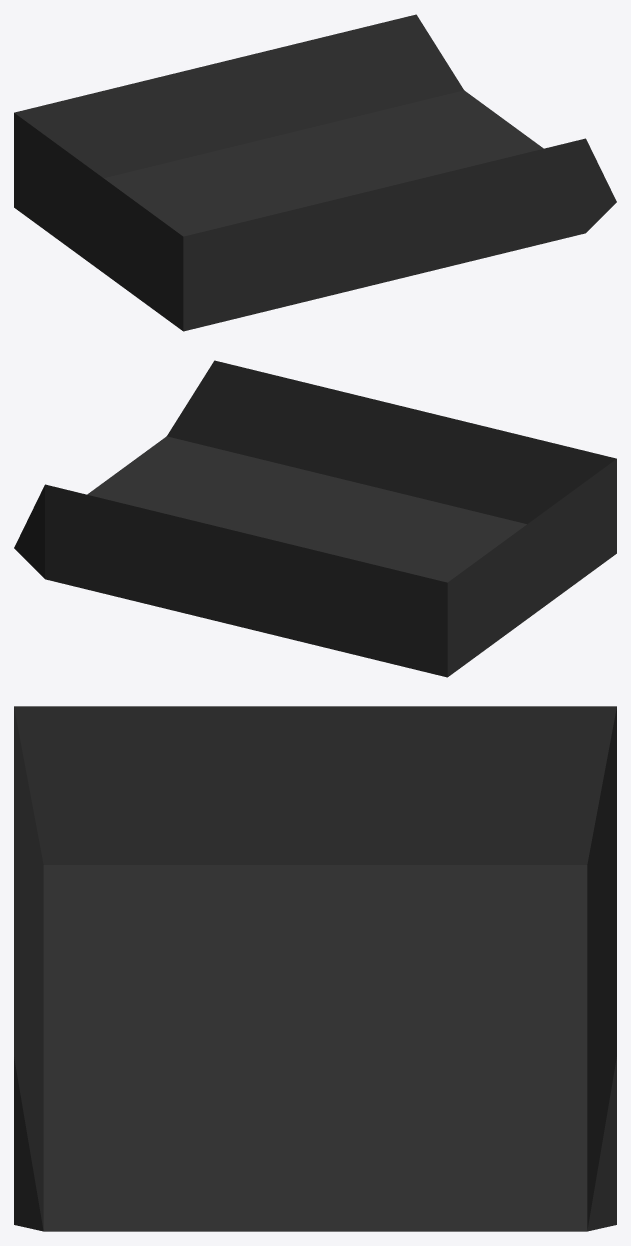
File: M_Home_Garden_paperholder.fbx
The picture shows the model from 3 angles, top to bottom: view 1: azimuth 30°, elevation 25°; view 2: azimuth 150°, elevation 25°; view 3: azimuth 270°, elevation 25°; orthographic projection. The views are drawn at different scales.
Visible parts, largest first — view 1: M_Home_Garden_paperholder; view 2: M_Home_Garden_paperholder; view 3: M_Home_Garden_paperholder.
Boxes of the visible parts, box(x1,y1,x2,y2) form: M_Home_Garden_paperholder: box(14, 14, 616, 331); M_Home_Garden_paperholder: box(14, 360, 616, 677); M_Home_Garden_paperholder: box(14, 706, 616, 1231).
Size of the model in its own units: 34.6 by 7.1 by 22.97.
